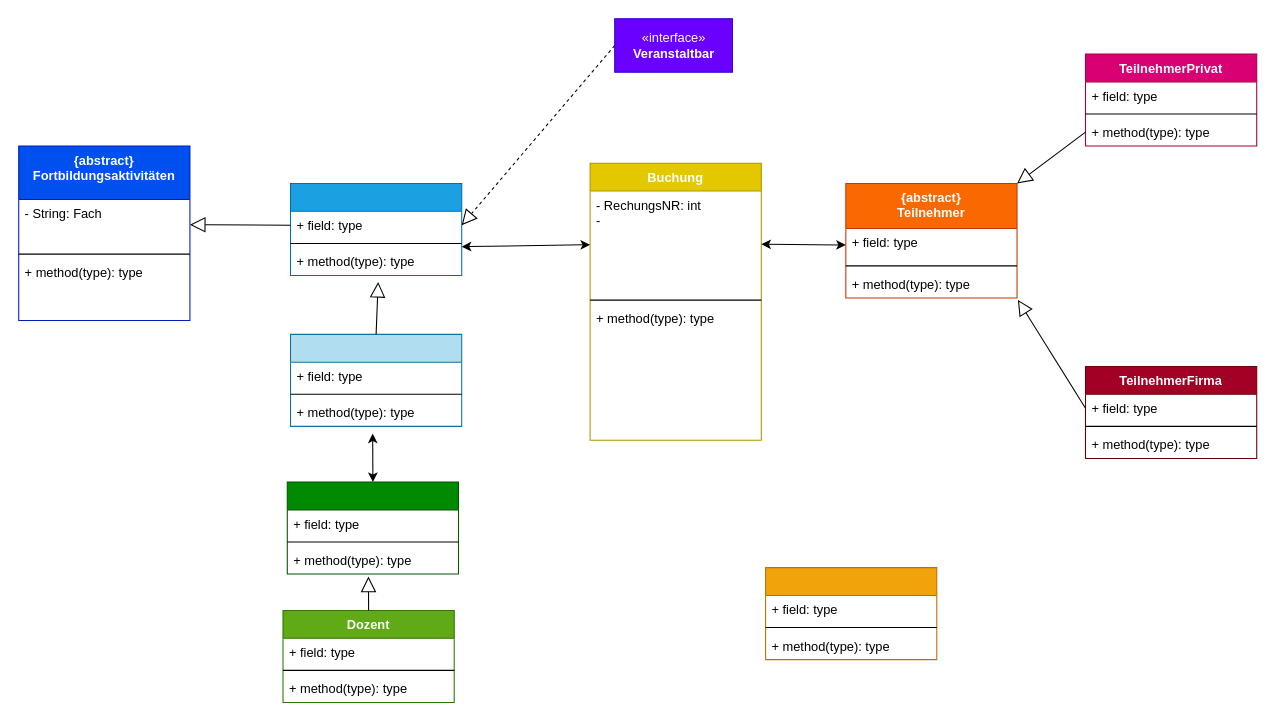
Some shapes in this 1275 by 724 pixel diagram are drawn without their labels. Here are the shapes that lost their labels. From the top down, the box of each, then its label:
(289, 182, 462, 276): Seminar
(289, 333, 462, 426): SeminarIntern
(286, 481, 458, 574): SeminarAnbieter
(765, 567, 937, 660): Rechnung
